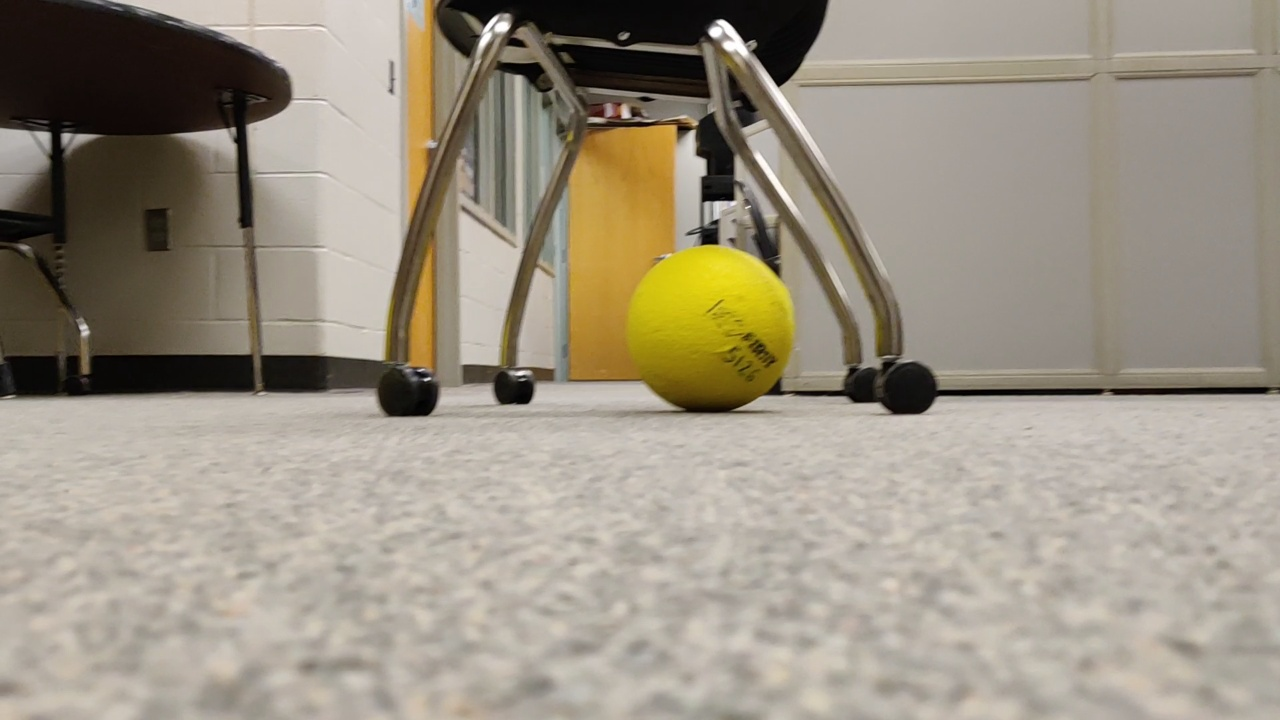Ball: (624, 245, 795, 414)
